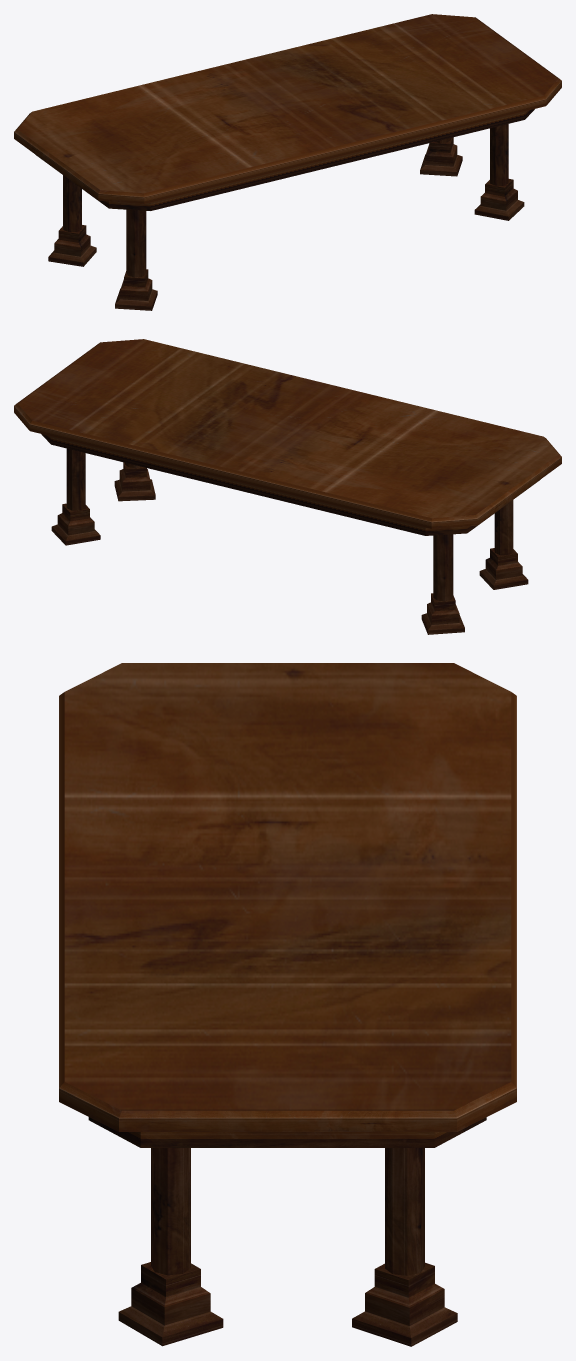
File: Kitchen_Table.obj
The picture shows the model from 3 angles, top to bottom: view 1: azimuth 30°, elevation 25°; view 2: azimuth 150°, elevation 25°; view 3: azimuth 270°, elevation 25°; orthographic projection. The views are drawn at different scales.
Parts seen in each view (by area): view 1: Kitchen_Table; view 2: Kitchen_Table; view 3: Kitchen_Table.
Boxes of the visible parts, box(x1,y1,x2,y2) form: Kitchen_Table: box(14, 14, 561, 310); Kitchen_Table: box(14, 339, 561, 634); Kitchen_Table: box(59, 663, 516, 1346).
Bounding box in the file's own units: 2.83 × 0.7581 × 1.21.
1 material, 1 textured.
